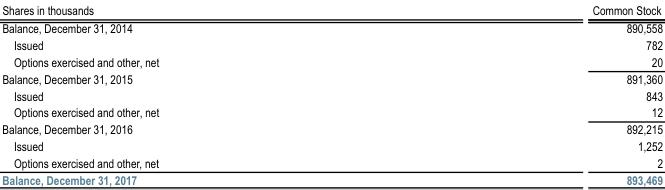table: (1, 1, 662, 187)
table column: (1, 1, 374, 187), (374, 1, 662, 187)
table column header: (1, 1, 662, 18)
table row: (1, 18, 662, 36), (1, 1, 662, 18), (1, 52, 662, 69), (1, 69, 662, 86), (1, 86, 662, 103), (1, 119, 662, 136), (1, 136, 662, 153), (1, 153, 662, 170), (1, 170, 662, 187), (1, 36, 662, 52), (1, 103, 662, 119)
